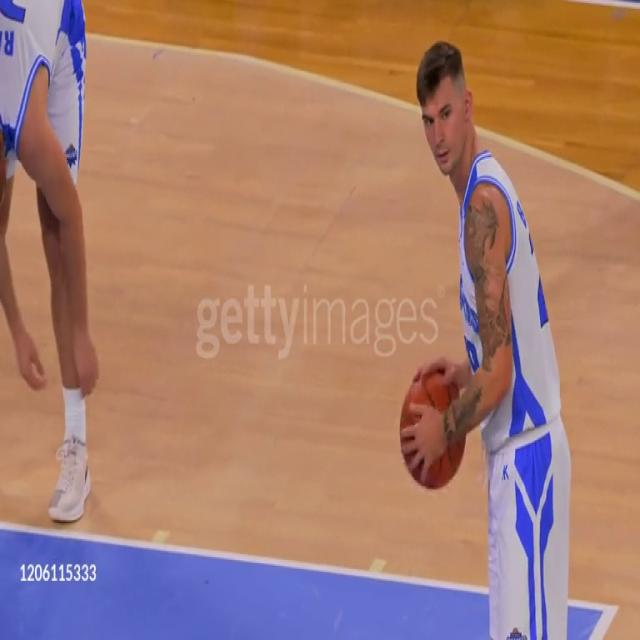ball: (398, 374, 467, 491)
